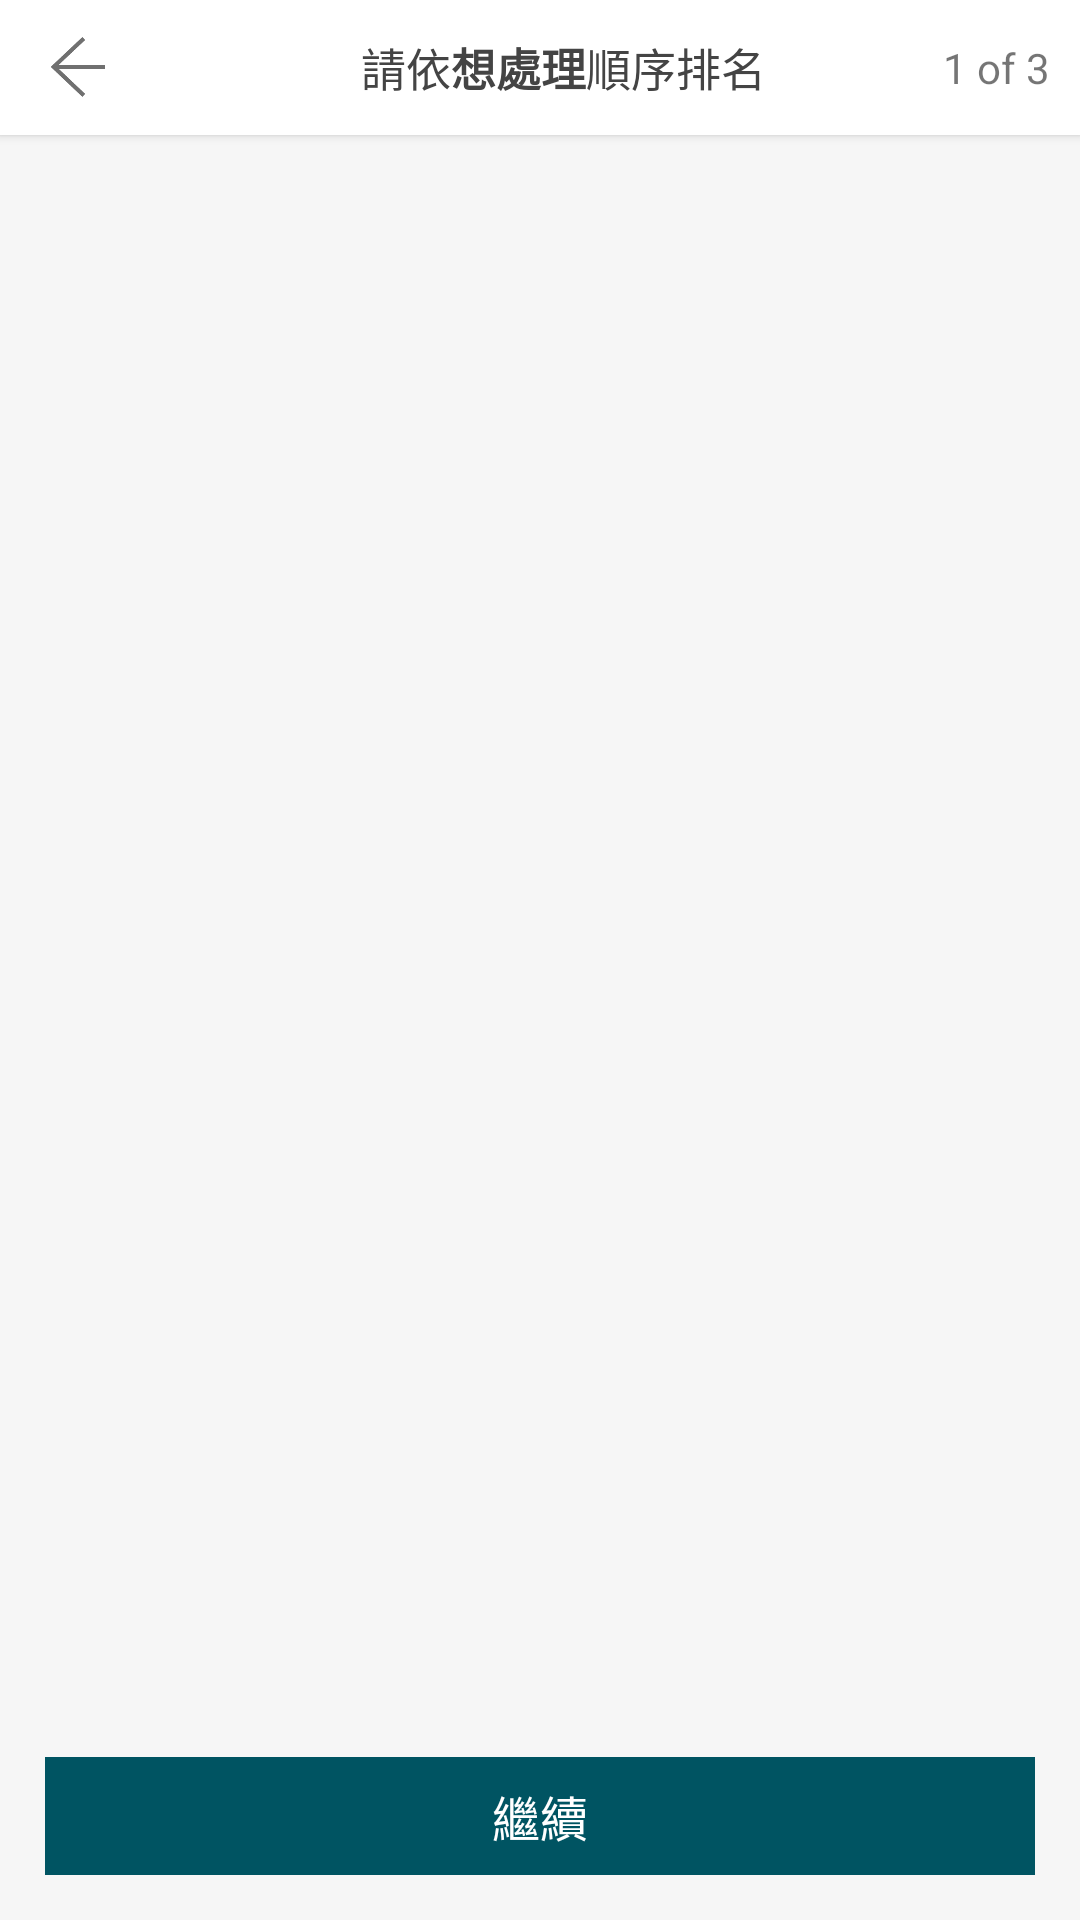

Icon click points for this 1080*1920 phone screenshot, format (x,y):
back: (78,67)
